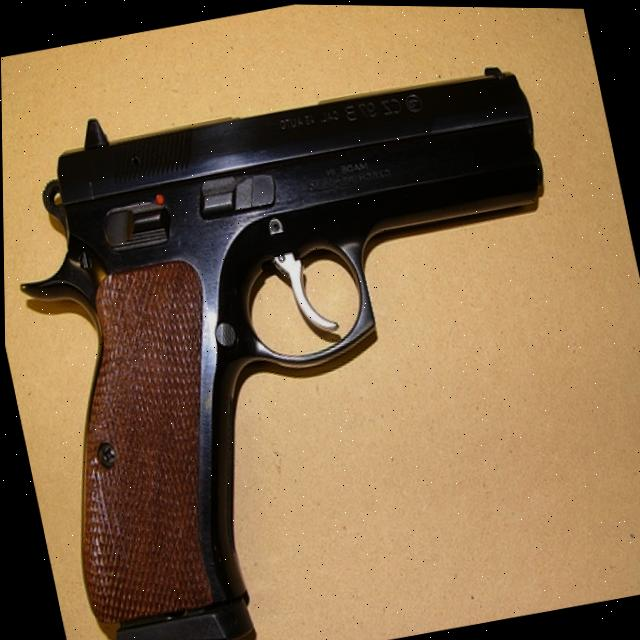pistol: (0, 29, 627, 640)
